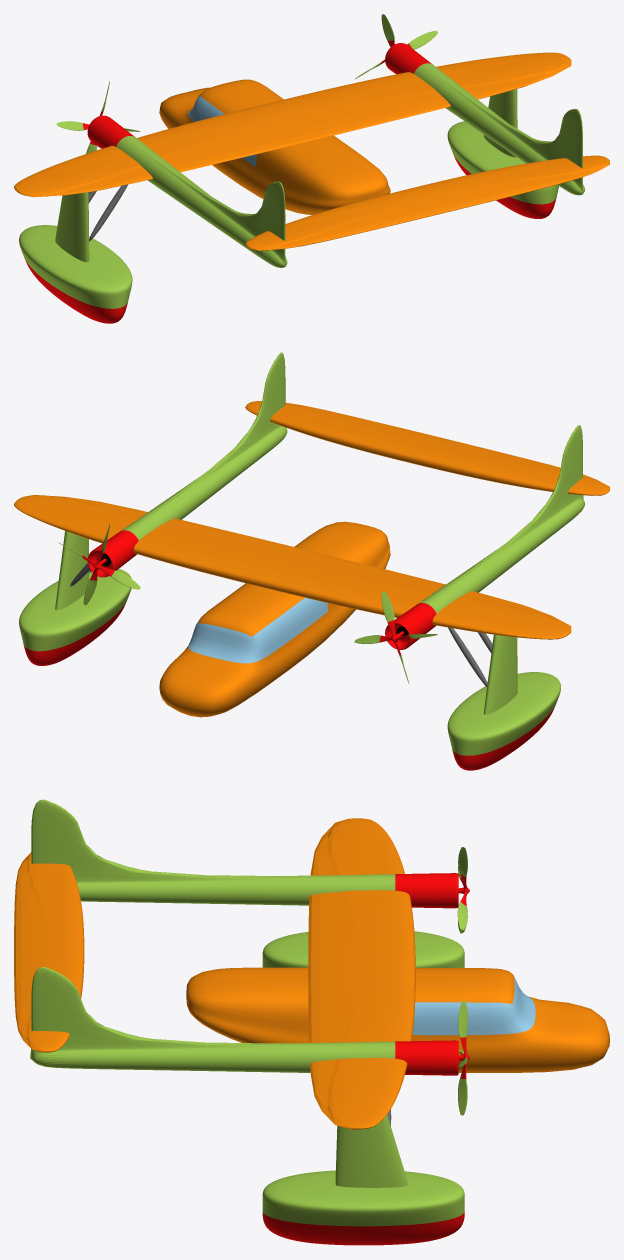
Rendered from oyuncaqfason.fbx.
The picture shows the model from 3 angles, top to bottom: view 1: azimuth 30°, elevation 25°; view 2: azimuth 150°, elevation 25°; view 3: azimuth 270°, elevation 25°; orthographic projection. The views are drawn at different scales.
Visible parts, largest first — view 1: Cube.034, Cube.004, Cube.035, Cube.036, Cube.037, Cube.038; view 2: Cube.034, Cube.004, Cube.035, Cube.036, Cube.038, Cube.037; view 3: Cube.034, Cube.004, Cube.036, Cube.035, Cube.037, Cube.038.
Boxes of the visible parts, <box> form: Cube.034: <box>14,43,609,267</box>; Cube.004: <box>159,79,390,214</box>; Cube.035: <box>19,184,132,323</box>; Cube.036: <box>447,89,558,218</box>; Cube.037: <box>355,14,437,78</box>; Cube.038: <box>56,81,140,153</box>; Cube.034: <box>14,352,609,649</box>; Cube.004: <box>159,521,390,717</box>; Cube.035: <box>447,627,560,770</box>; Cube.036: <box>19,531,131,665</box>; Cube.038: <box>354,591,437,683</box>; Cube.037: <box>58,524,140,604</box>; Cube.034: <box>14,799,458,1129</box>; Cube.004: <box>186,967,609,1072</box>; Cube.036: <box>262,1109,464,1245</box>; Cube.035: <box>262,931,464,967</box>; Cube.037: <box>458,1001,469,1115</box>; Cube.038: <box>457,847,469,933</box>.
Size of the model in its own units: 2160 by 778 by 1756.
